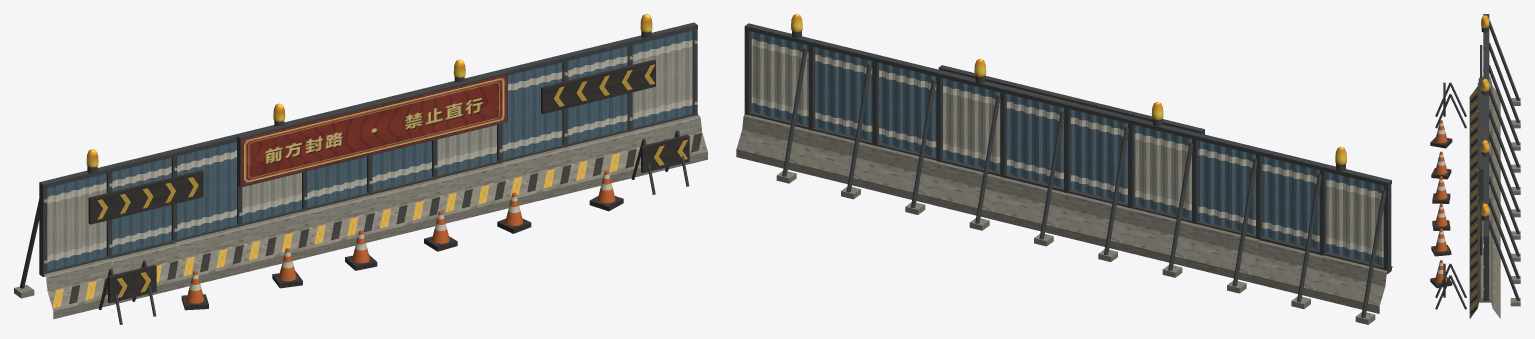
Rendered from scene-turn-barricade.glb.
3 renders of one model, left to right at view 1: azimuth 30°, elevation 25°; view 2: azimuth 150°, elevation 25°; view 3: azimuth 270°, elevation 25°, orthographic. The views are drawn at different scales.
Visible parts, largest first — view 1: Dongjie municipal hoarding; view 2: Dongjie municipal hoarding; view 3: Dongjie municipal hoarding, Beacon0, Beacon1, Beacon3, Beacon2.
Part boxes in pixels (left/top/right/bottom): Dongjie municipal hoarding: left=14, top=22, right=707, bottom=324; Dongjie municipal hoarding: left=736, top=23, right=1393, bottom=324; Dongjie municipal hoarding: left=1430, top=14, right=1520, bottom=318; Beacon0: left=1481, top=15, right=1489, bottom=27; Beacon1: left=1481, top=78, right=1489, bottom=91; Beacon3: left=1481, top=203, right=1489, bottom=216; Beacon2: left=1481, top=140, right=1489, bottom=152.
Bounding box in the file's own units: 15.66 × 3.4 × 2.68.
Materials: 3 (3 with a texture image).
